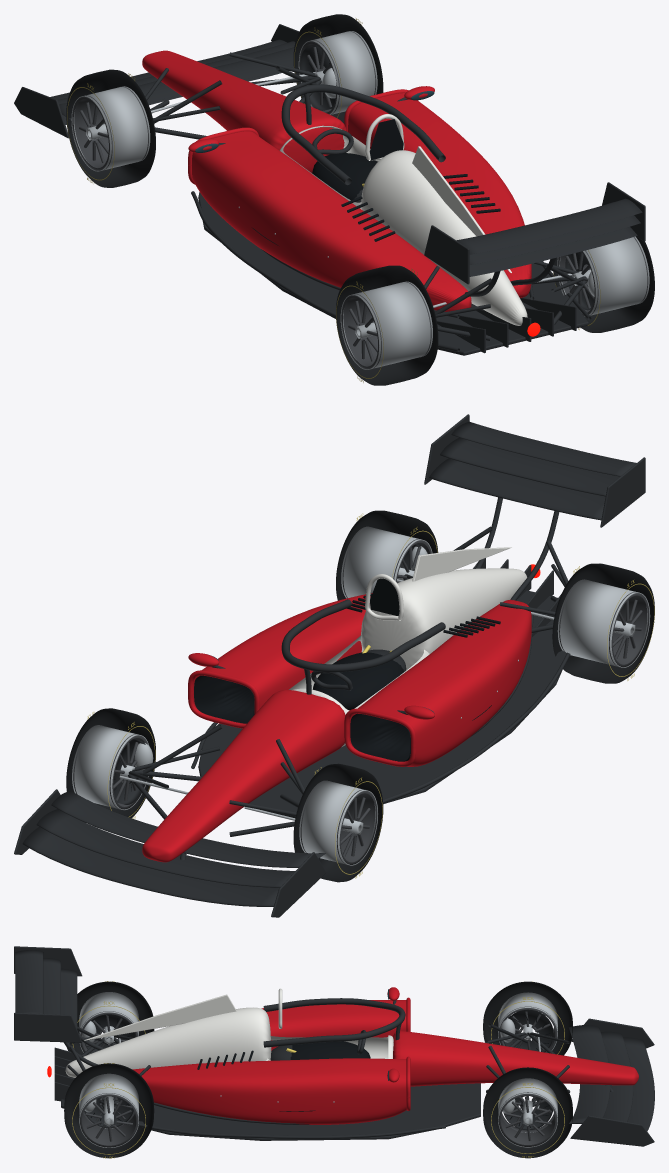
The model's file is sf26-primary.glb.
3 views of the same model, one above another, from view 1: azimuth 30°, elevation 25°; view 2: azimuth 150°, elevation 25°; view 3: azimuth 270°, elevation 25° (orthographic). The views are drawn at different scales.
Visible parts, largest first — view 1: Sidepod_-1, Nose, Engine_cover, Sidepod_1, Bodywork_Rear_wing_Carbon_twill, Floor, Wheel_RR_Trim_Machined_titanium, Bodywork_Suspension_Carbon_twill, Wheel_RL_Trim_Machined_titanium, Tire_RR, Wheel_FR_Trim_Machined_titanium, Tire_FR (+22 smaller); view 2: Bodywork_Front_wing_Carbon_twill, Sidepod_-1, Nose, Bodywork_Rear_wing_Carbon_twill, Floor, Engine_cover, Sidepod_1, Wheel_RR_Trim_Machined_titanium, Bodywork_Suspension_Carbon_twill, Wheel_FR_Trim_Machined_titanium, Tire_RR, Wheel_RL_Trim_Machined_titanium (+21 smaller); view 3: Sidepod_1, Nose, Floor, Engine_cover, Bodywork_Front_wing_Carbon_twill, Bodywork_Rear_wing_Carbon_twill, Sidepod_-1, Tire_RL, Tire_FL, Tire_FR, Bodywork_Halo_Carbon_twill, Wheel_RL_Trim_Dark_magnesium (+24 smaller).
Part boxes in pixels (x1,y1,x2,y2): Sidepod_-1: [192, 131, 471, 311]; Nose: [142, 50, 346, 173]; Engine_cover: [361, 150, 527, 325]; Sidepod_1: [348, 93, 531, 298]; Bodywork_Rear_wing_Carbon_twill: [456, 198, 642, 296]; Floor: [198, 192, 588, 355]; Wheel_RR_Trim_Machined_titanium: [340, 281, 432, 369]; Bodywork_Suspension_Carbon_twill: [145, 52, 588, 340]; Wheel_RL_Trim_Machined_titanium: [557, 236, 649, 316]; Tire_RR: [336, 265, 438, 385]; Wheel_FR_Trim_Machined_titanium: [71, 86, 150, 171]; Tire_FR: [66, 69, 155, 187]; Bodywork_Front_wing_Carbon_twill: [22, 790, 325, 906]; Sidepod_-1: [349, 599, 531, 766]; Nose: [142, 690, 345, 862]; Bodywork_Rear_wing_Carbon_twill: [429, 421, 636, 600]; Floor: [198, 590, 566, 817]; Engine_cover: [361, 568, 527, 670]; Sidepod_1: [193, 593, 372, 711]; Wheel_RR_Trim_Machined_titanium: [557, 579, 650, 667]; Bodywork_Suspension_Carbon_twill: [125, 526, 568, 836]; Wheel_FR_Trim_Machined_titanium: [299, 780, 377, 865]; Tire_RR: [552, 563, 654, 683]; Wheel_RL_Trim_Machined_titanium: [341, 526, 432, 598]; Sidepod_1: [133, 1058, 406, 1124]; Nose: [393, 1031, 638, 1086]; Floor: [61, 1083, 480, 1140]; Engine_cover: [65, 1007, 271, 1077]; Bodywork_Front_wing_Carbon_twill: [568, 1025, 654, 1131]; Bodywork_Rear_wing_Carbon_twill: [15, 950, 104, 1066]; Sidepod_-1: [261, 1000, 406, 1050]; Tire_RL: [64, 1063, 154, 1158]; Tire_FL: [483, 1067, 572, 1158]; Tire_FR: [483, 981, 572, 1055]; Bodywork_Halo_Carbon_twill: [263, 998, 405, 1047]; Wheel_RL_Trim_Dark_magnesium: [79, 1074, 138, 1147].
Bounding box in the file's own units: 1.93 × 1.14 × 5.05.
